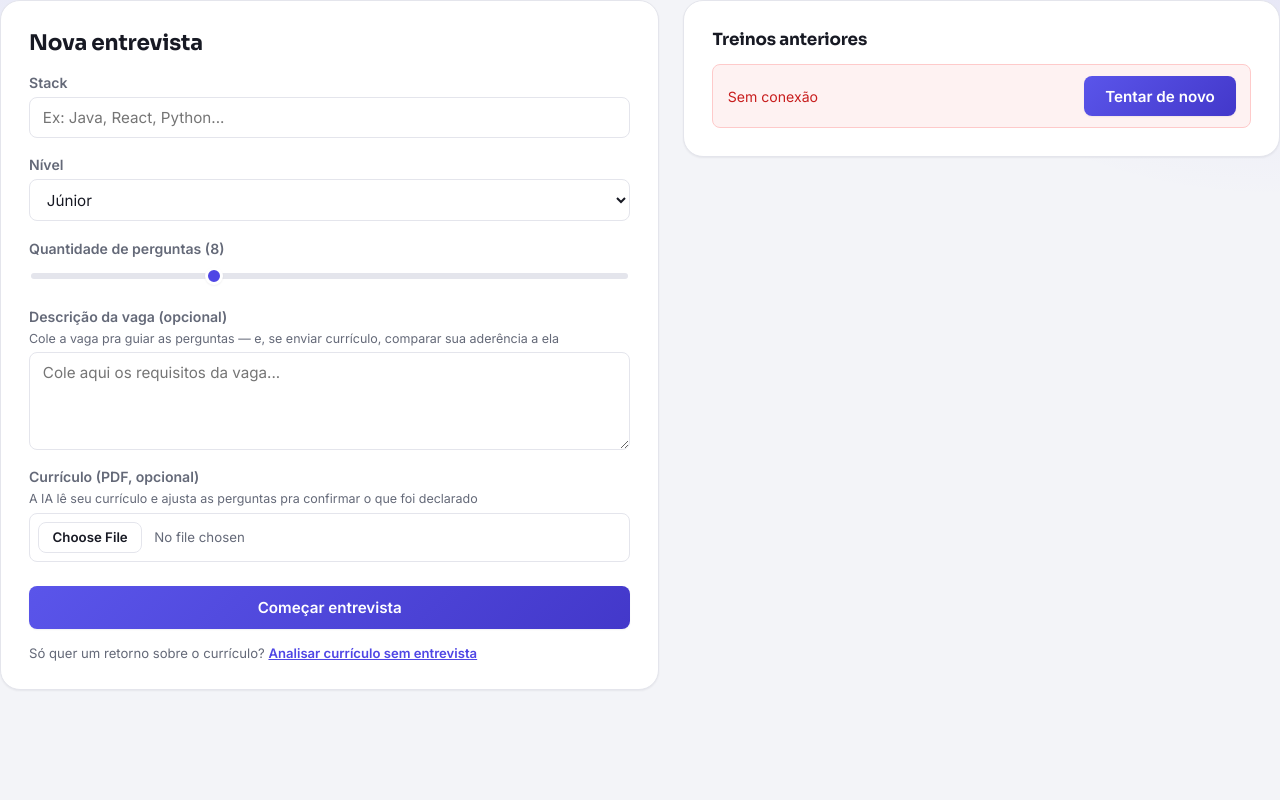
Test: HomePage: convites de empresas › falha ao carregar os treinos não parece lista vazia e deixa tentar de novo
This screenshot has width=1280, height=800.
Check: the message shows "Sem conexão", box [728,88,818,104]
Check: the text "Nenhuma entrevista ainda." is not shown
Click the button "Tentar de novo": (1160, 96) [1084,76,1236,116]
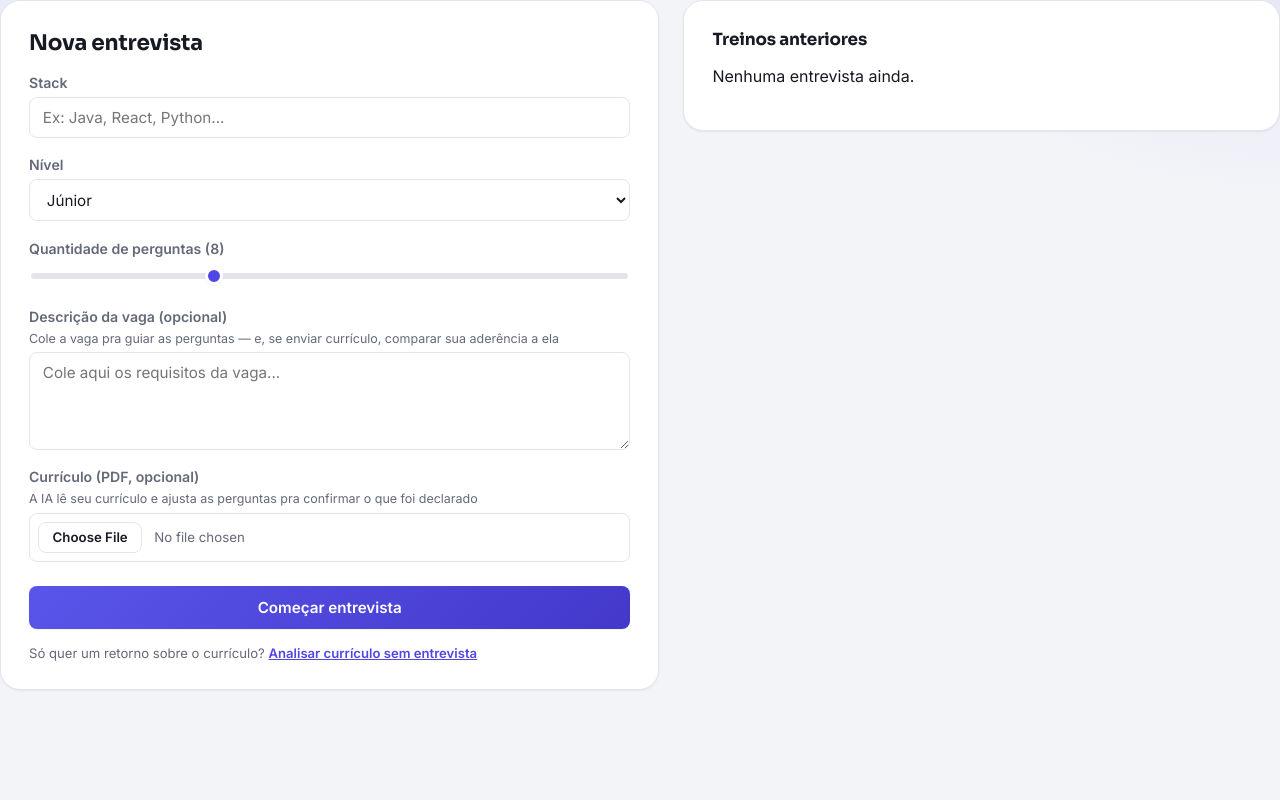
Check: the text "Nenhuma entrevista ainda." is shown, box [712,66,914,86]
Check: the message "Sem conexão Tentar de novo" is gone
